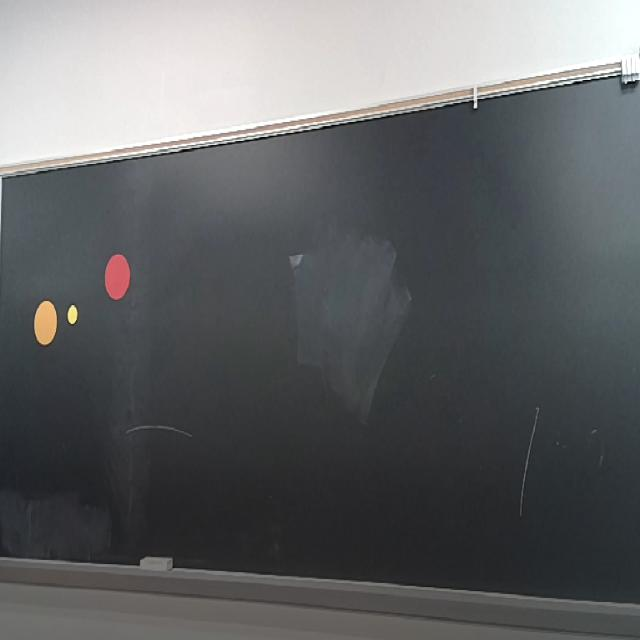Orange: (34, 300, 57, 346)
Red: (104, 253, 130, 300)
Yellow: (67, 305, 78, 325)
